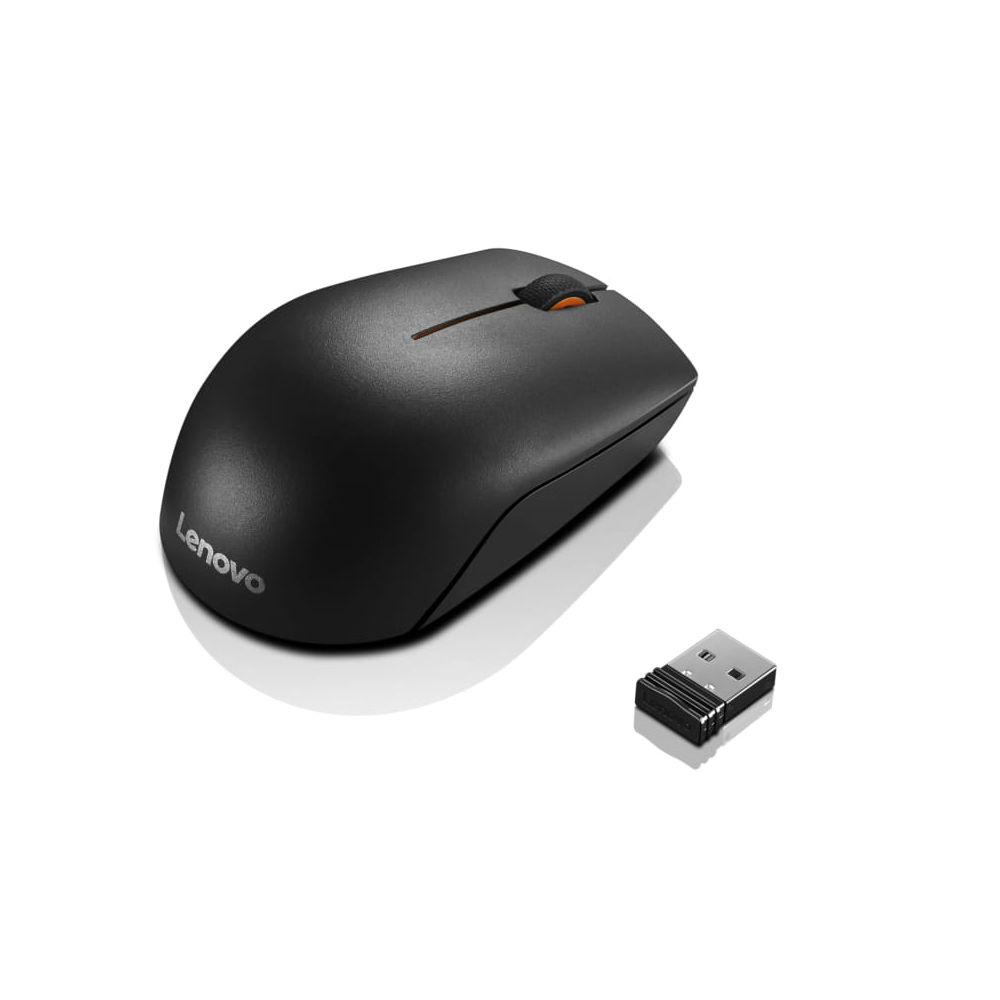mouse: (146, 193, 702, 663)
